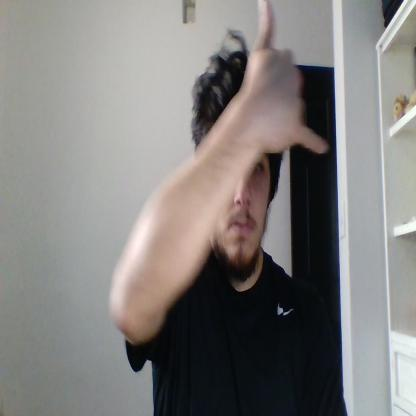Y: (244, 0, 328, 153)
